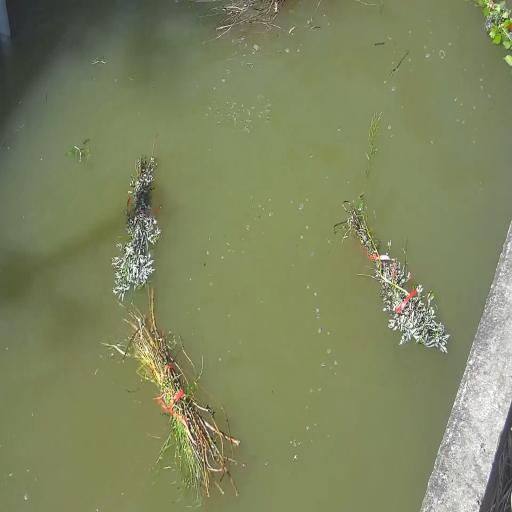twig: (118, 289, 239, 495), (334, 193, 449, 352), (111, 136, 161, 301), (473, 0, 512, 51), (366, 114, 380, 178)
